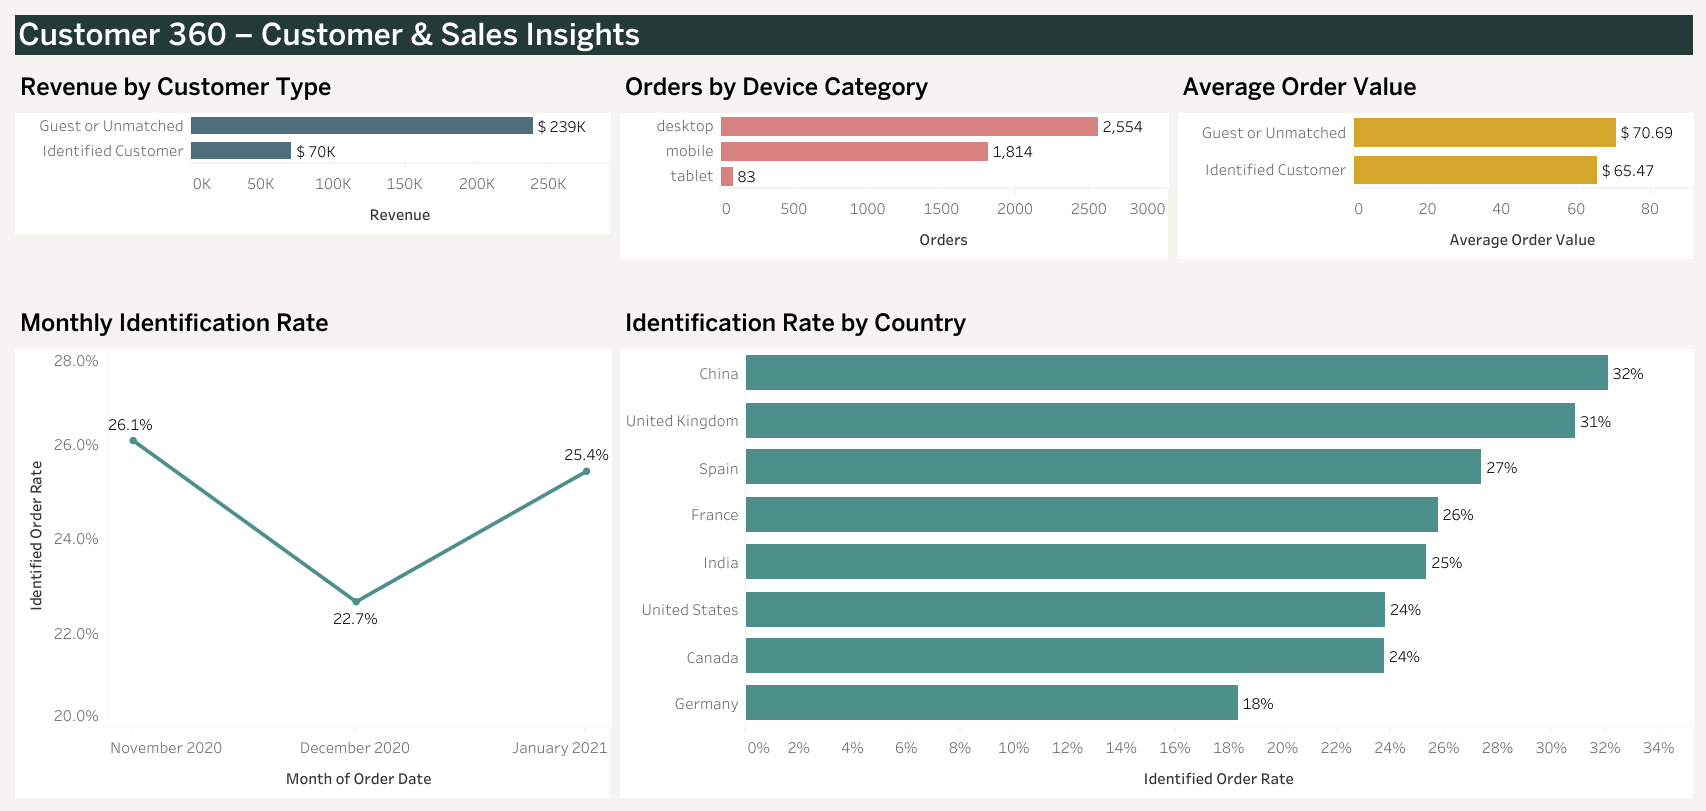

The dashboard page shown, as its layout file describes it:
{"tool":"tableau","page":{"name":"Customer & Sales Insights","canvas":[1366,650],"ordinal":0},"visuals":[{"type":"text","box":[8,8,1350,40.4]},{"type":"worksheet","title":"Bar - Revenue by Customer Type","mark":"Automatic","rows":["customer_type"],"cols":["revenue_usd"],"box":[8,48,484,154]},{"type":"worksheet","title":"Bar - Orders by Device Category","mark":"Automatic","rows":["device_category"],"cols":["order_id"],"box":[492,48.4,446,188.5]},{"type":"worksheet","title":"Bar - Average Order Value by Customer Type","mark":"Automatic","rows":["customer_type"],"cols":["Calculation_1416945075343790080"],"box":[938,48.4,420,188.5]},{"type":"worksheet","title":"Trend - Monthly Identification Rate","mark":"Automatic","rows":["Calculation_1416945075349868545"],"cols":["order_date"],"box":[8,236.9,484,405.1]},{"type":"worksheet","title":"Bar - Identification Rate by Country","mark":"Automatic","rows":["country"],"cols":["Calculation_1416945075349868545"],"box":[492,236.9,866,405.1]}]}

Visuals, with their boxes in screenshot pixels (x1, y1, x2, y2), scaled from the page's 1366x650 canvas onto the 1706x811 screenshot:
text: (10, 10, 1696, 60)
"Bar - Revenue by Customer Type" worksheet: (10, 60, 614, 252)
"Bar - Orders by Device Category" worksheet: (614, 60, 1171, 296)
"Bar - Average Order Value by Customer Type" worksheet: (1171, 60, 1696, 296)
"Trend - Monthly Identification Rate" worksheet: (10, 296, 614, 801)
"Bar - Identification Rate by Country" worksheet: (614, 296, 1696, 801)
